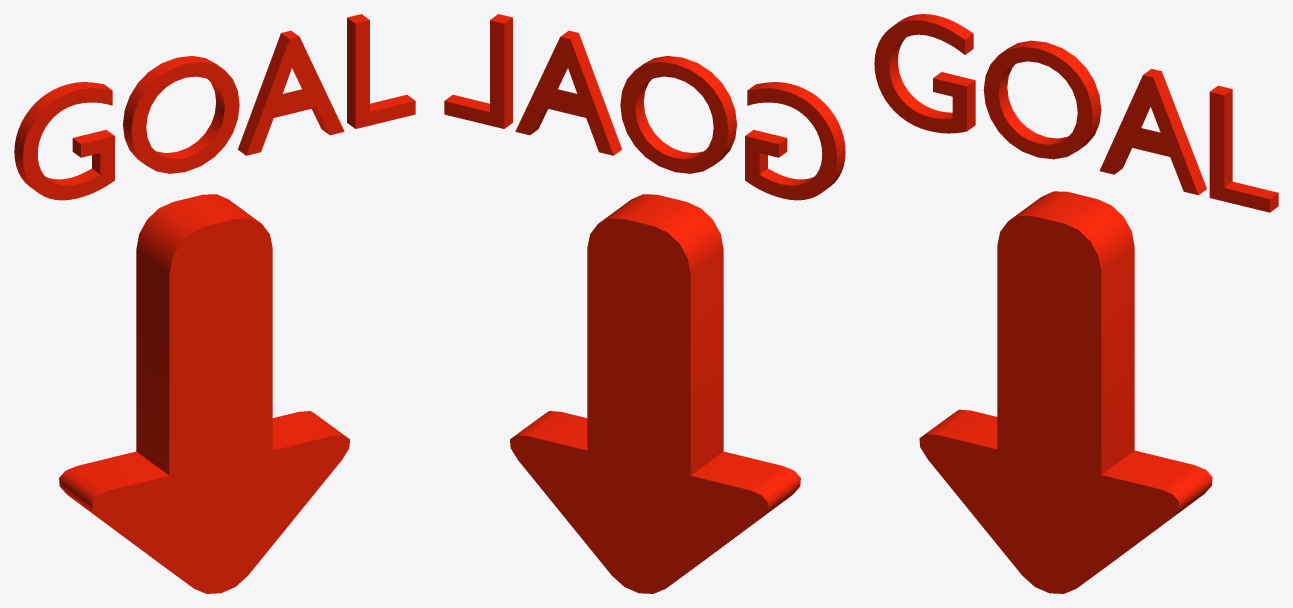
The model's file is arrow.fbx.
3 renders of one model, left to right at view 1: azimuth 30°, elevation 25°; view 2: azimuth 150°, elevation 25°; view 3: azimuth 330°, elevation 25°, orthographic.
Visible parts, largest first — view 1: 큐브; view 2: 큐브; view 3: 큐브.
Boxes of the visible parts, left/top/right/bottom form: 큐브: left=14, top=14, right=415, bottom=593; 큐브: left=444, top=14, right=845, bottom=593; 큐브: left=874, top=14, right=1278, bottom=593.
Bounding box in the file's own units: 266 × 340 × 38.89.
